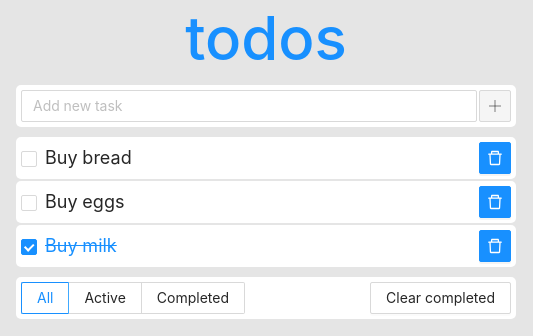
Scenario: Toolbar › Filters to comleted todos
Click the radio button "Completed" at (194, 298), box [142,282,245,314]
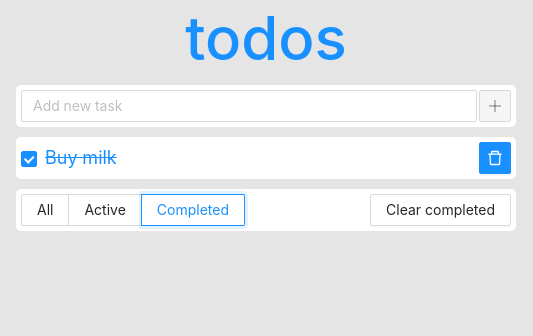
expect the number of elements with class "app__todo-item" is 1: met, box [16,137,516,179]
